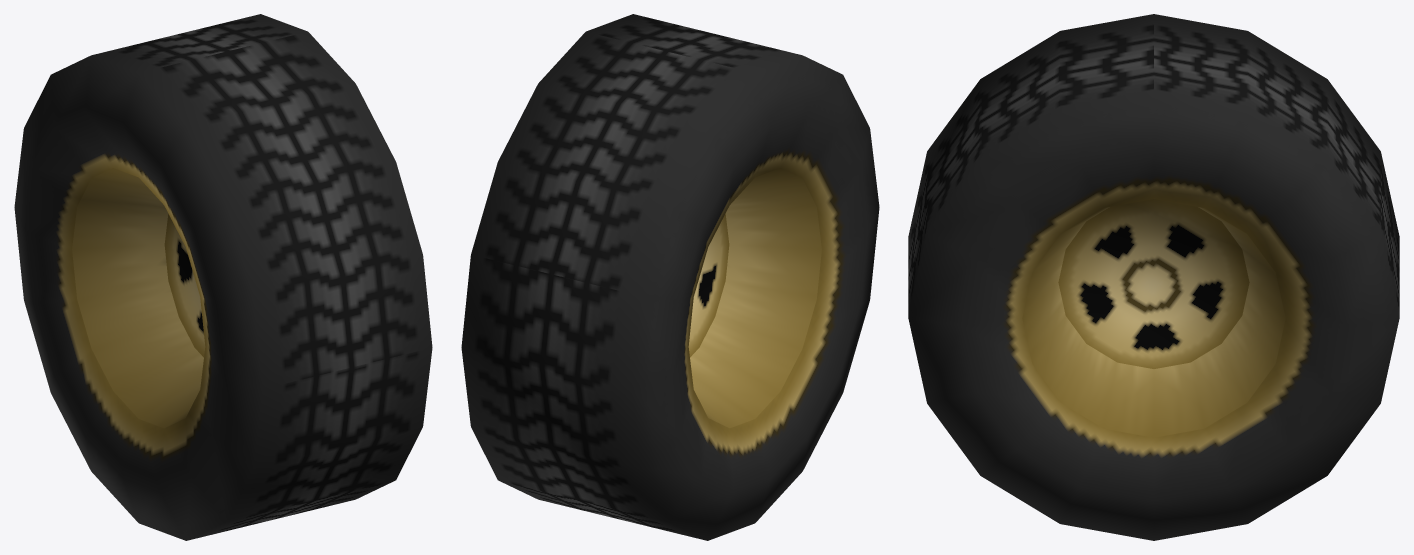
The model's file is vehicle_RidingMowerBackWheel.fbx.
The picture shows the model from 3 angles, left to right: view 1: azimuth 30°, elevation 25°; view 2: azimuth 150°, elevation 25°; view 3: azimuth 270°, elevation 25°; orthographic projection.
Parts seen in each view (by area): view 1: Object002; view 2: Object002; view 3: Object002.
Part boxes in pixels (left/top/right/bottom): Object002: left=14, top=14, right=432, bottom=540; Object002: left=461, top=14, right=879, bottom=540; Object002: left=908, top=14, right=1399, bottom=540.
Bounding box in the file's own units: 0.1814 × 0.3881 × 0.3881.
